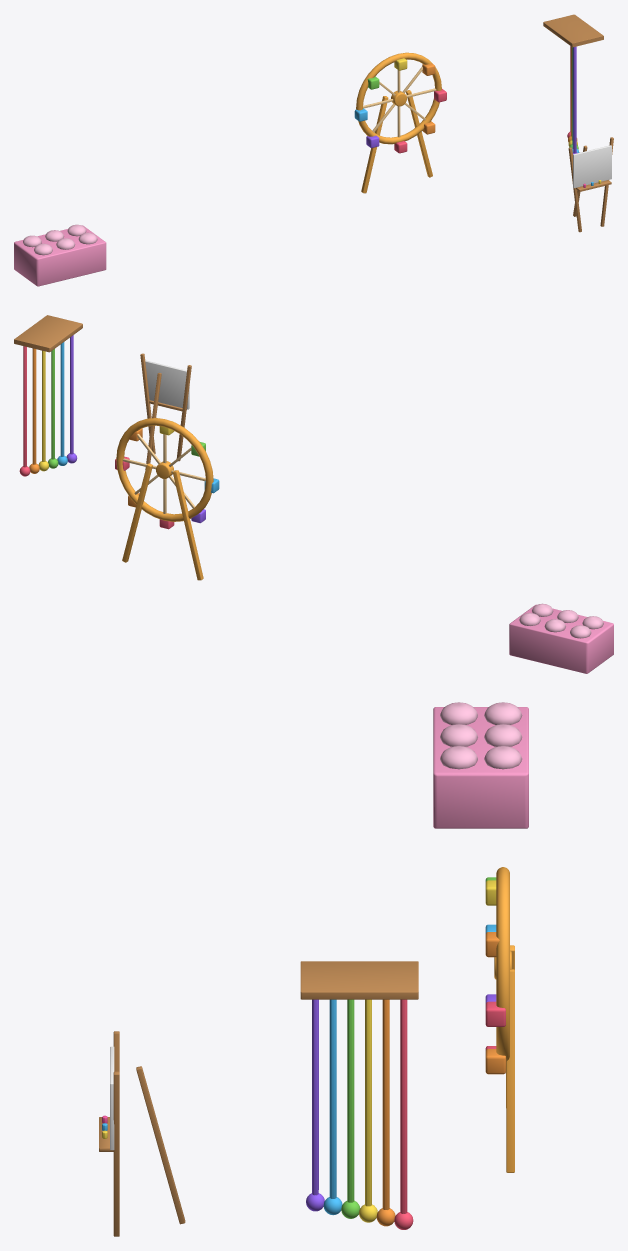
Rendered from decor-craft.glb.
The picture shows the model from 3 angles, top to bottom: view 1: azimuth 30°, elevation 25°; view 2: azimuth 150°, elevation 25°; view 3: azimuth 270°, elevation 25°; orthographic projection. The views are drawn at different scales.
Visible parts, largest first — view 1: decor-item-egg-carton-mesh, Node_12-mesh, part-canvas-mesh, decor-item-yarn-mesh, decor-item-ferris-wheel-mesh, decor-item-easel-mesh, part-strand-5-mesh; view 2: decor-item-egg-carton-mesh, Node_12-mesh, decor-item-yarn-mesh, decor-item-ferris-wheel-mesh, part-canvas-mesh, decor-item-easel-mesh, part-strand-1-mesh, part-strand-4-mesh, part-strand-0-mesh, part-strand-5-mesh, part-strand-2-mesh, part-strand-3-mesh; view 3: decor-item-egg-carton-mesh, decor-item-yarn-mesh, Node_12-mesh, decor-item-easel-mesh, part-strand-0-mesh, part-strand-1-mesh, part-strand-3-mesh, part-strand-4-mesh, part-strand-2-mesh, part-strand-5-mesh, decor-item-ferris-wheel-mesh.
Boxes of the visible parts, x1,y1,x2,y2 form: decor-item-egg-carton-mesh: [14, 224, 106, 286]; Node_12-mesh: [354, 52, 446, 153]; part-canvas-mesh: [573, 145, 611, 188]; decor-item-yarn-mesh: [543, 14, 603, 47]; decor-item-ferris-wheel-mesh: [361, 90, 432, 193]; decor-item-easel-mesh: [568, 137, 613, 232]; part-strand-5-mesh: [573, 46, 577, 154]; decor-item-egg-carton-mesh: [509, 603, 613, 673]; Node_12-mesh: [115, 418, 219, 529]; decor-item-yarn-mesh: [14, 315, 82, 352]; decor-item-ferris-wheel-mesh: [122, 463, 203, 580]; part-canvas-mesh: [145, 360, 189, 409]; decor-item-easel-mesh: [140, 353, 191, 469]; part-strand-1-mesh: [29, 348, 39, 473]; part-strand-4-mesh: [57, 342, 67, 465]; part-strand-0-mesh: [19, 346, 30, 476]; part-strand-5-mesh: [66, 335, 77, 463]; part-strand-2-mesh: [38, 350, 48, 471]; part-strand-3-mesh: [48, 349, 58, 468]; decor-item-egg-carton-mesh: [433, 702, 528, 828]; decor-item-yarn-mesh: [300, 961, 418, 999]; Node_12-mesh: [485, 867, 511, 1074]; decor-item-easel-mesh: [99, 1031, 185, 1236]; part-strand-0-mesh: [394, 999, 413, 1229]; part-strand-1-mesh: [376, 999, 395, 1226]; part-strand-3-mesh: [341, 999, 359, 1218]; part-strand-4-mesh: [323, 999, 342, 1215]; part-strand-2-mesh: [359, 999, 377, 1222]; part-strand-5-mesh: [306, 999, 324, 1211]; decor-item-ferris-wheel-mesh: [506, 945, 514, 1172].
Size of the model in its own units: 15.07 by 4.04 by 5.26.
